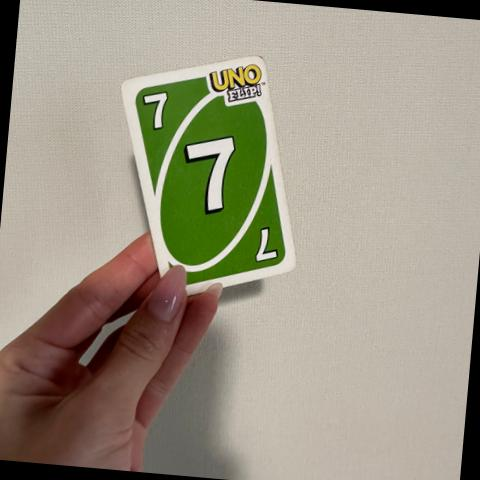lgreen-7: (135, 84, 189, 136)
